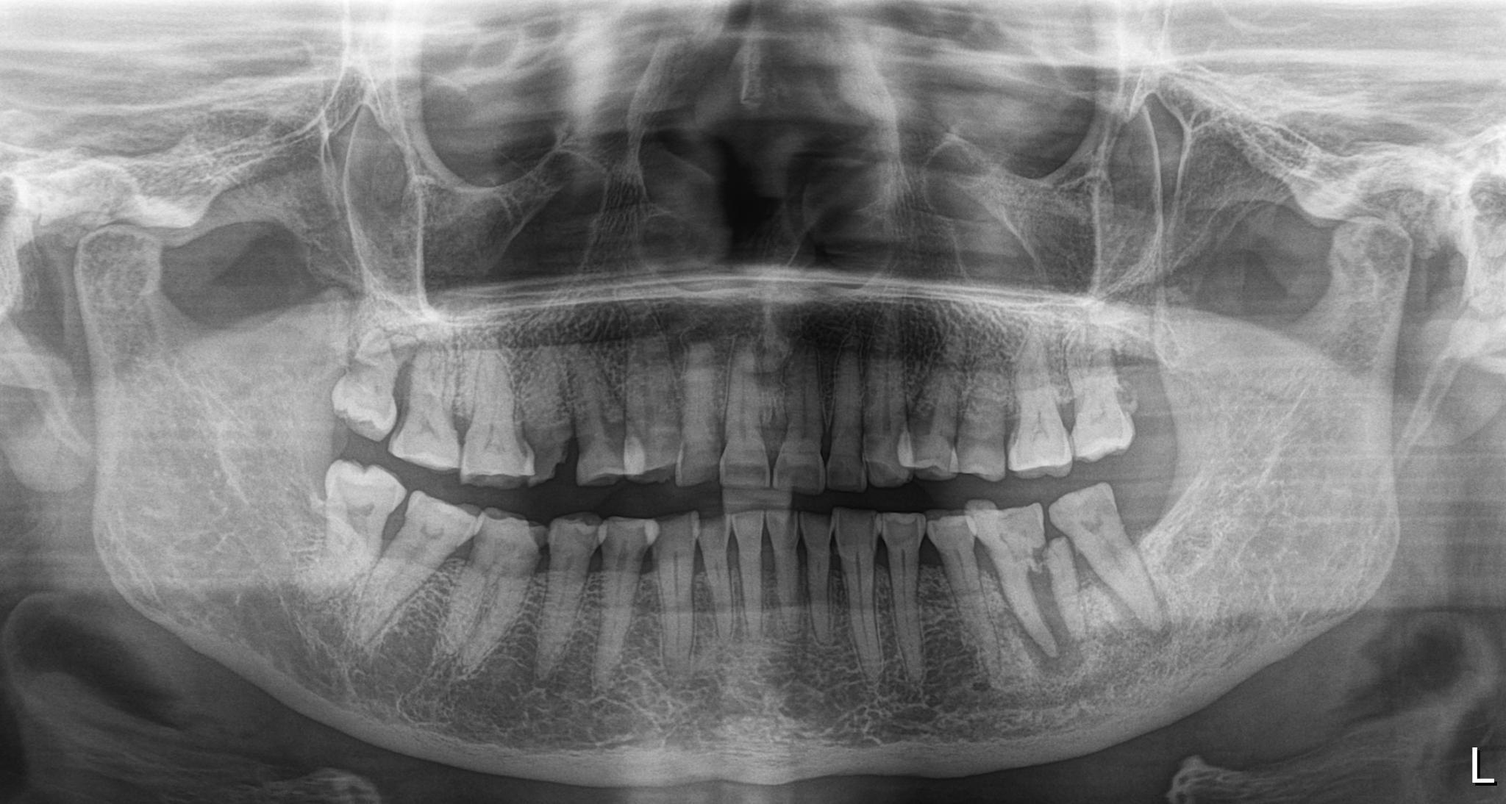Dental Caries: (522, 402, 613, 459)
Missing Tooth: (1120, 474, 1207, 602), (1112, 342, 1179, 446)
Periapical Lesion: (1026, 570, 1091, 681)
Tooth Fracture: (1033, 533, 1105, 657)
